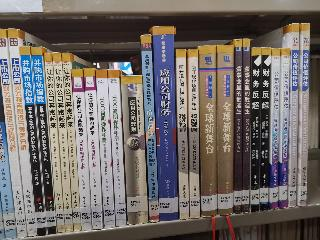book-spine: (7, 28, 36, 239), (0, 28, 28, 239), (30, 44, 57, 236), (117, 75, 151, 226), (21, 46, 47, 237), (154, 25, 178, 221), (44, 52, 66, 234), (53, 51, 74, 233), (140, 36, 160, 223), (61, 51, 81, 233), (94, 70, 117, 228), (81, 67, 103, 231), (106, 70, 128, 228), (71, 69, 92, 231), (198, 42, 217, 218), (218, 45, 236, 217), (287, 22, 301, 209), (175, 47, 190, 219), (258, 48, 273, 211), (268, 47, 282, 210), (189, 48, 202, 218), (298, 23, 310, 207), (251, 47, 262, 214), (278, 47, 289, 209), (234, 38, 243, 215), (243, 37, 250, 214)
